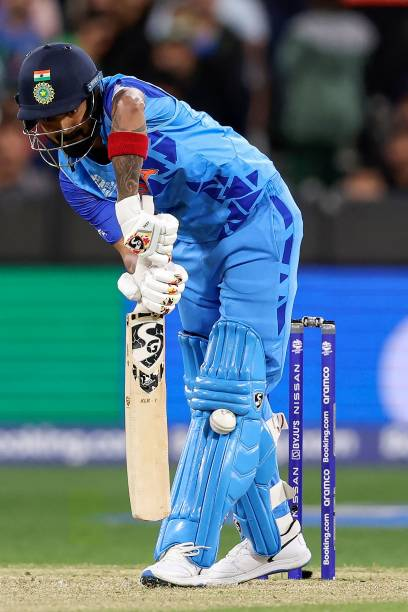bottom left: (119, 493, 146, 526)
bottom right: (158, 493, 185, 524)
top left: (116, 301, 141, 326)
